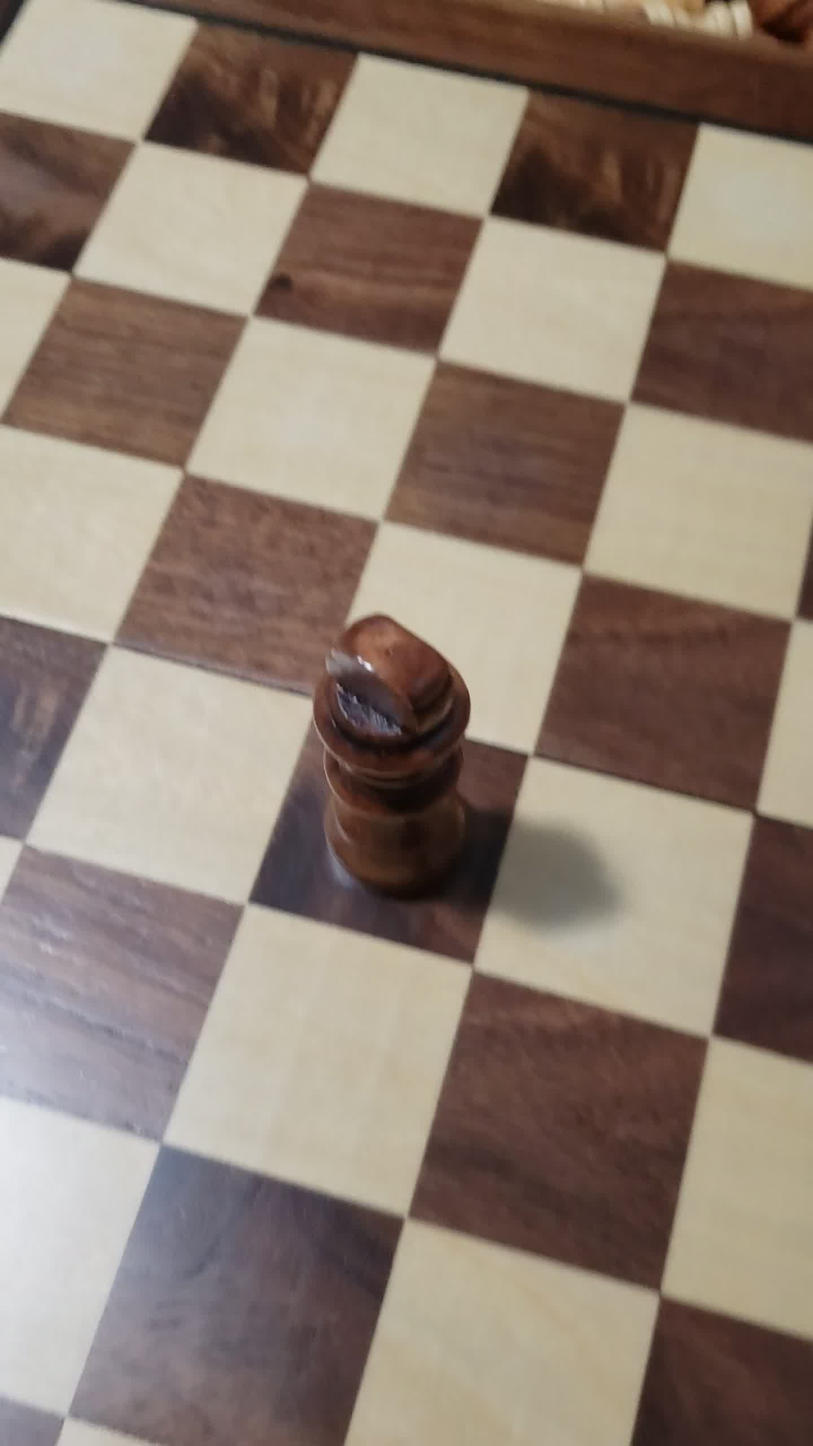black-king: (271, 596, 498, 940)
